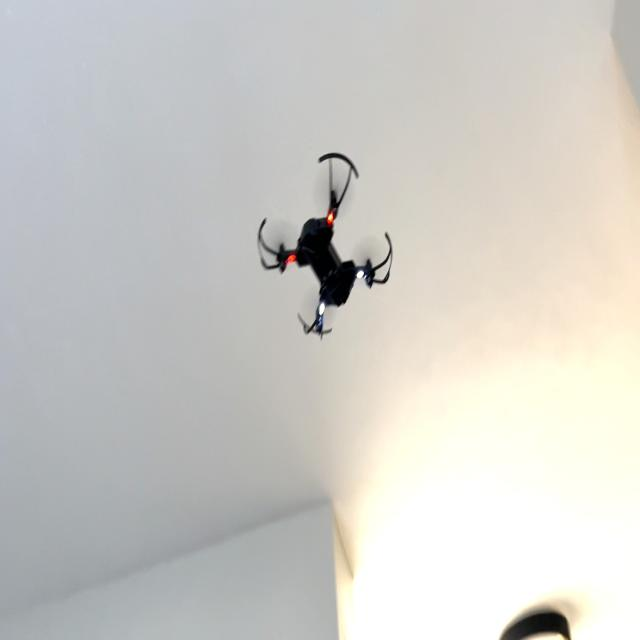drone: (245, 134, 401, 351)
